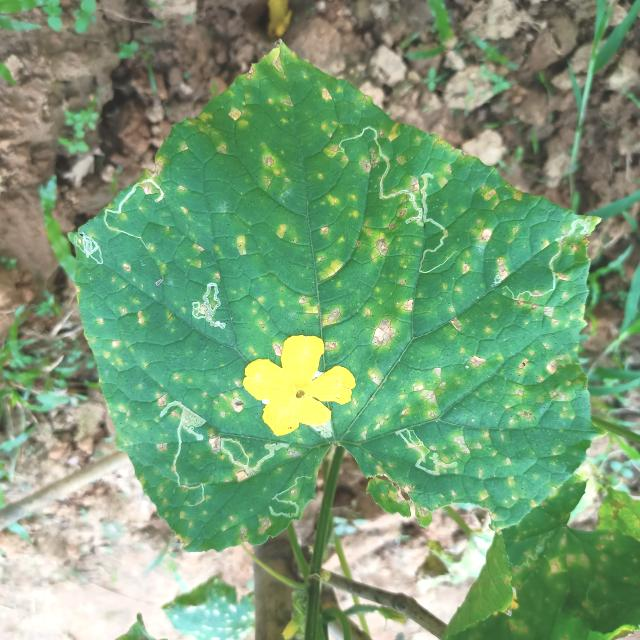disease_cucumber: (94, 79, 567, 525)
